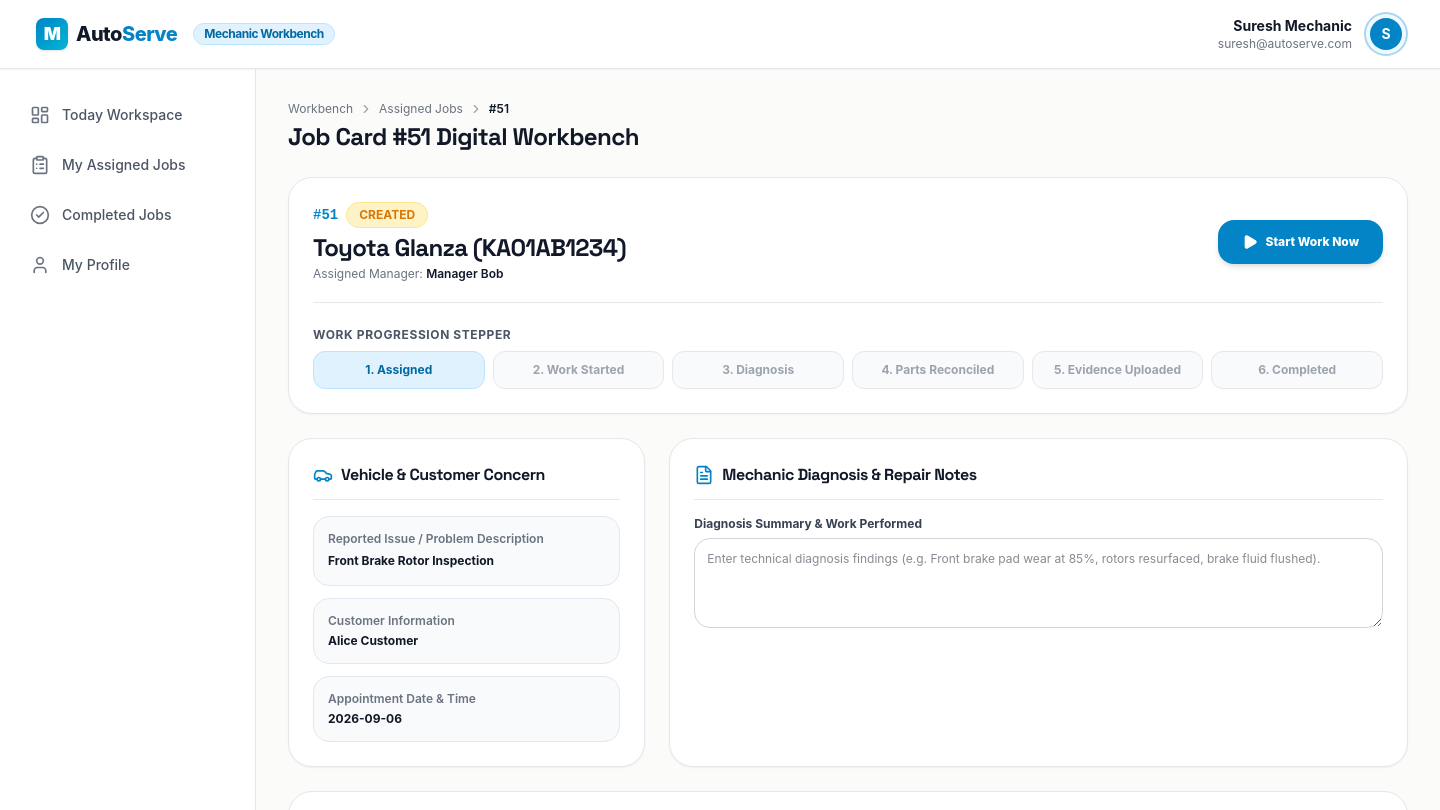
Test: Mechanic Jobs & Digital Workbench Workflow › allows starting work on job card and displaying stepper progress
Check: the heading "Job Card #51 Digital Workbench" is shown, box [288, 121, 639, 152]
Check: the text "Start Work Now" is shown, box [1266, 234, 1359, 250]
Click the button "Start Work Now" at coordinates (1300, 242), box [1218, 220, 1383, 264]
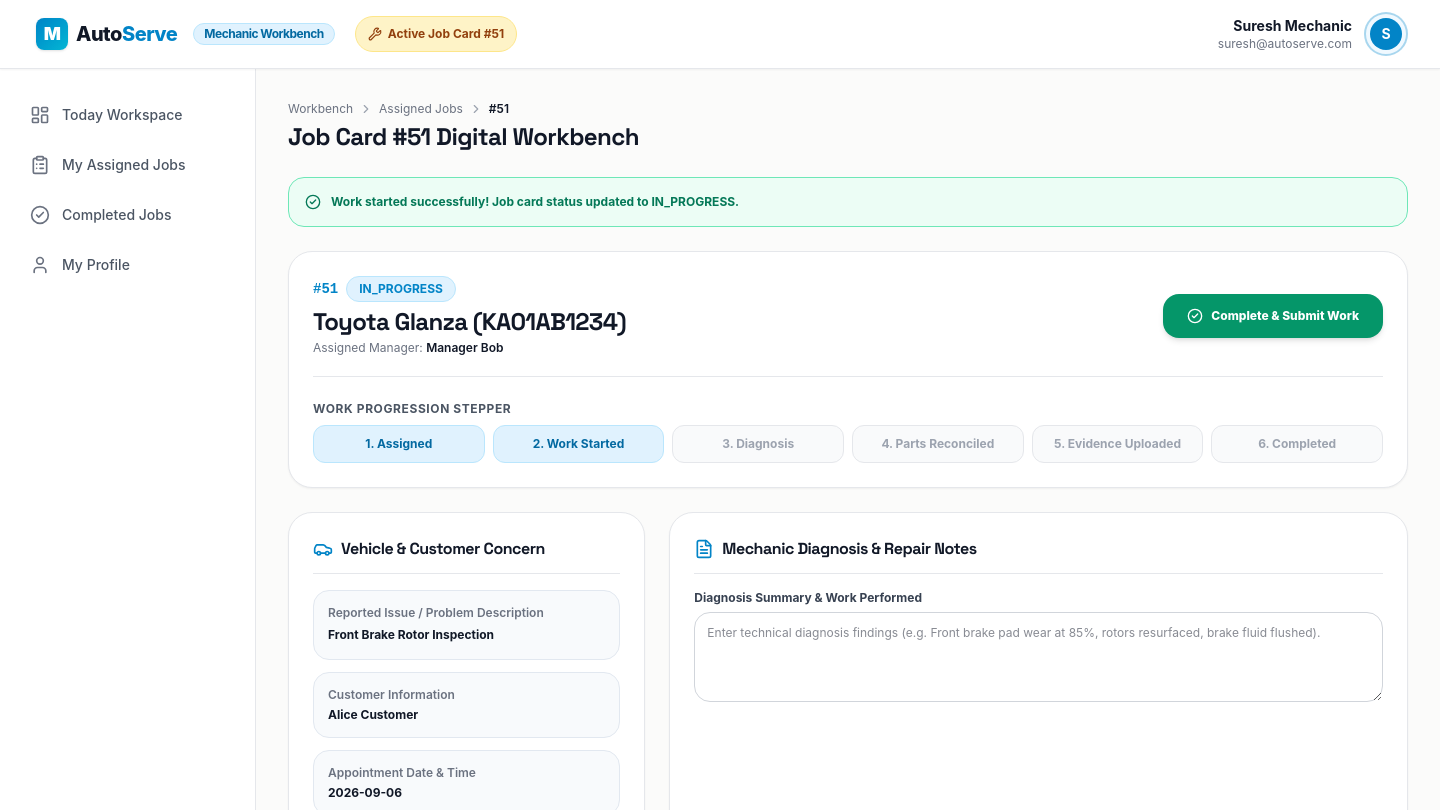
Check: the message shows "Work started successfully!", box [331, 194, 739, 209]
